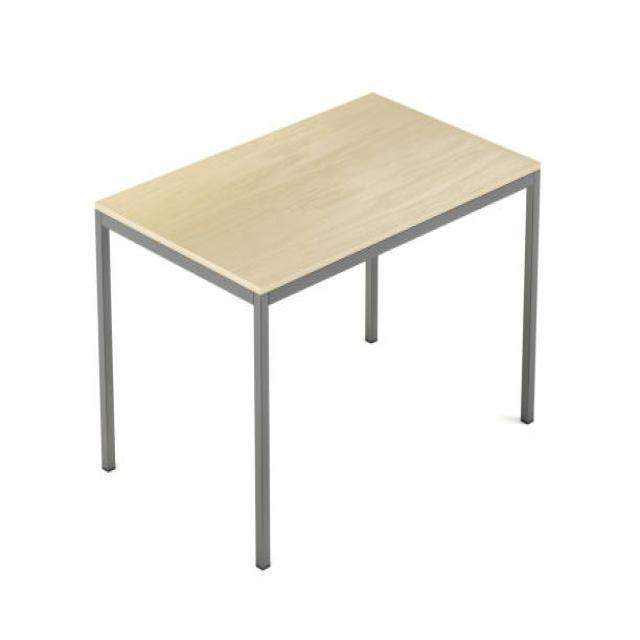table: (93, 90, 541, 570)
